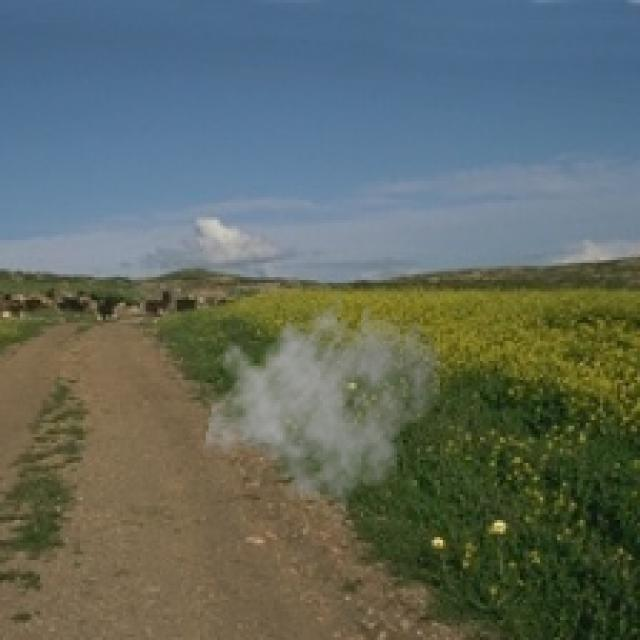smoke: (203, 283, 446, 511)
